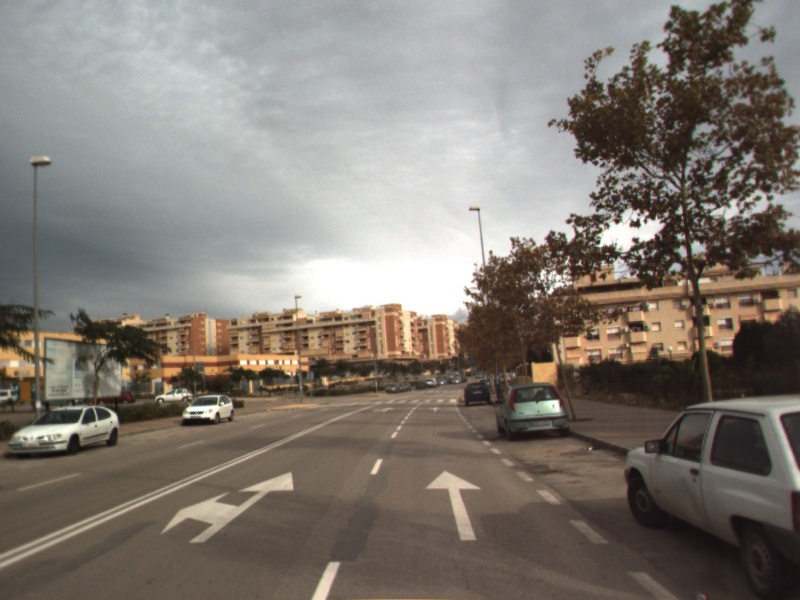STRAIGHT: (423, 467, 485, 543), (426, 405, 444, 414)
STRAIGHT_LEFT: (158, 470, 296, 545), (371, 405, 397, 415)
